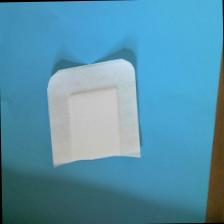Cut: (44, 48, 145, 179)
